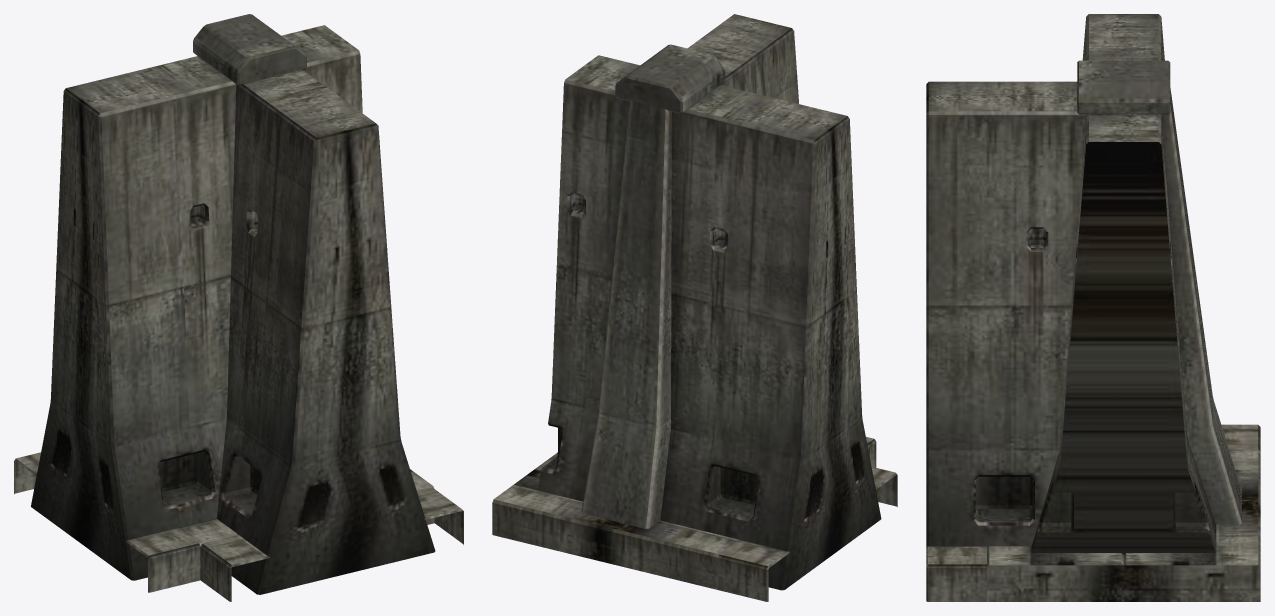
File: stone-wall-sw.glb
The picture shows the model from 3 angles, left to right: view 1: azimuth 30°, elevation 25°; view 2: azimuth 150°, elevation 25°; view 3: azimuth 270°, elevation 25°; orthographic projection. The views are drawn at different scales.
Parts seen in each view (by area): view 1: body; view 2: body; view 3: body.
Part boxes in pixels (x1,y1,x2,y2): body: [14, 14, 463, 601]; body: [492, 14, 897, 601]; body: [926, 14, 1260, 601].
Size of the model in its own units: 0.8466 by 1.32 by 0.8466.
Materials: 1 (1 with a texture image).
